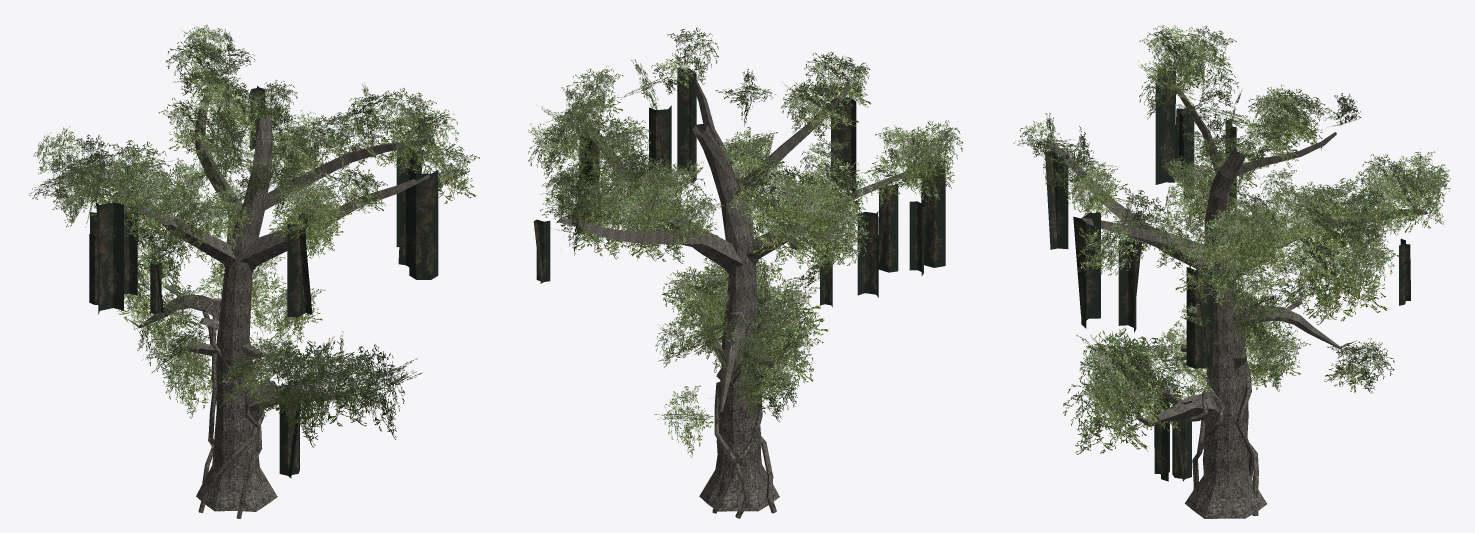
The model's file is tree08.FBX.
The picture shows the model from 3 angles, left to right: view 1: azimuth 30°, elevation 25°; view 2: azimuth 150°, elevation 25°; view 3: azimuth 270°, elevation 25°; orthographic projection.
Parts seen in each view (by area): view 1: objmesh_LiveOakLeaves_024, objmesh_LiveOakBark014, objmesh_xu024, Loft03; view 2: objmesh_LiveOakLeaves_024, objmesh_LiveOakBark014, objmesh_xu024, Loft03; view 3: objmesh_LiveOakLeaves_024, objmesh_LiveOakBark014, objmesh_xu024, Loft03.
Boxes of the visible parts, <box> form: objmesh_LiveOakLeaves_024: <box>29,24,479,447</box>; objmesh_LiveOakBark014: <box>68,71,430,511</box>; objmesh_xu024: <box>89,86,438,478</box>; Loft03: <box>198,298,279,518</box>; objmesh_LiveOakLeaves_024: <box>527,27,963,457</box>; objmesh_LiveOakBark014: <box>558,69,909,511</box>; objmesh_xu024: <box>533,68,945,307</box>; Loft03: <box>712,311,776,518</box>; objmesh_LiveOakLeaves_024: <box>1013,25,1450,454</box>; objmesh_LiveOakBark014: <box>1048,79,1428,518</box>; objmesh_xu024: <box>1045,68,1410,481</box>; Loft03: <box>1190,305,1258,515</box>.
Size of the model in its own units: 36.96 by 34.55 by 33.56.
